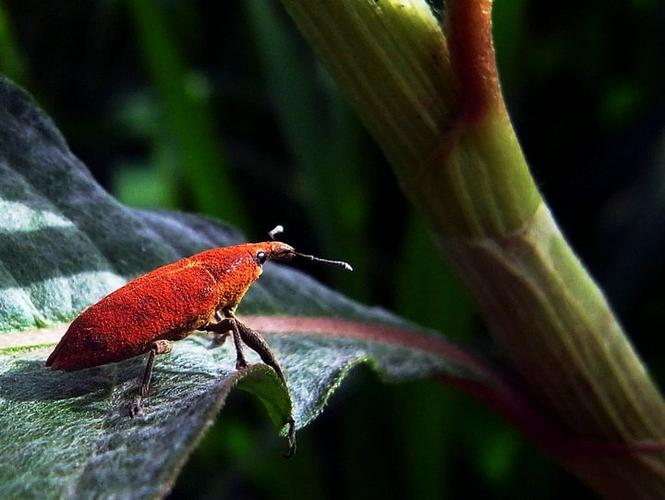Curculionidae: (44, 224, 354, 451)
